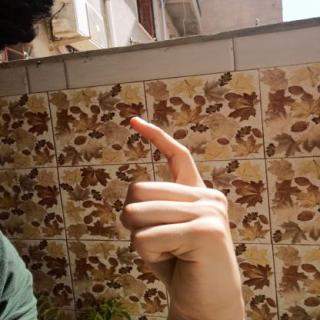RAA: (112, 110, 253, 316)
